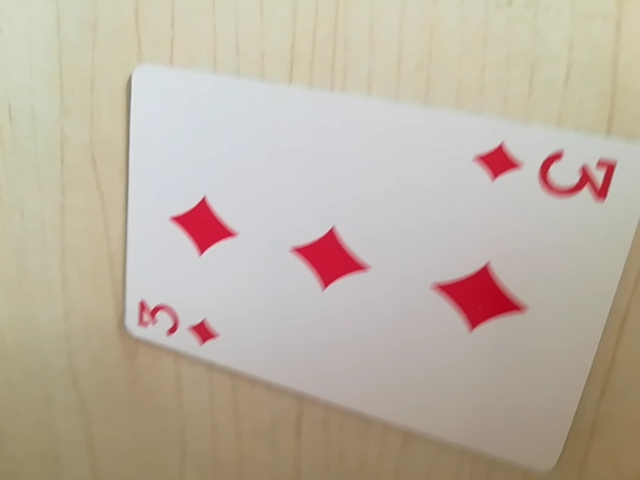fk 3: (467, 136, 618, 206), (131, 292, 228, 349)
